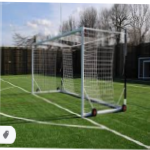goals: (30, 27, 125, 120)
